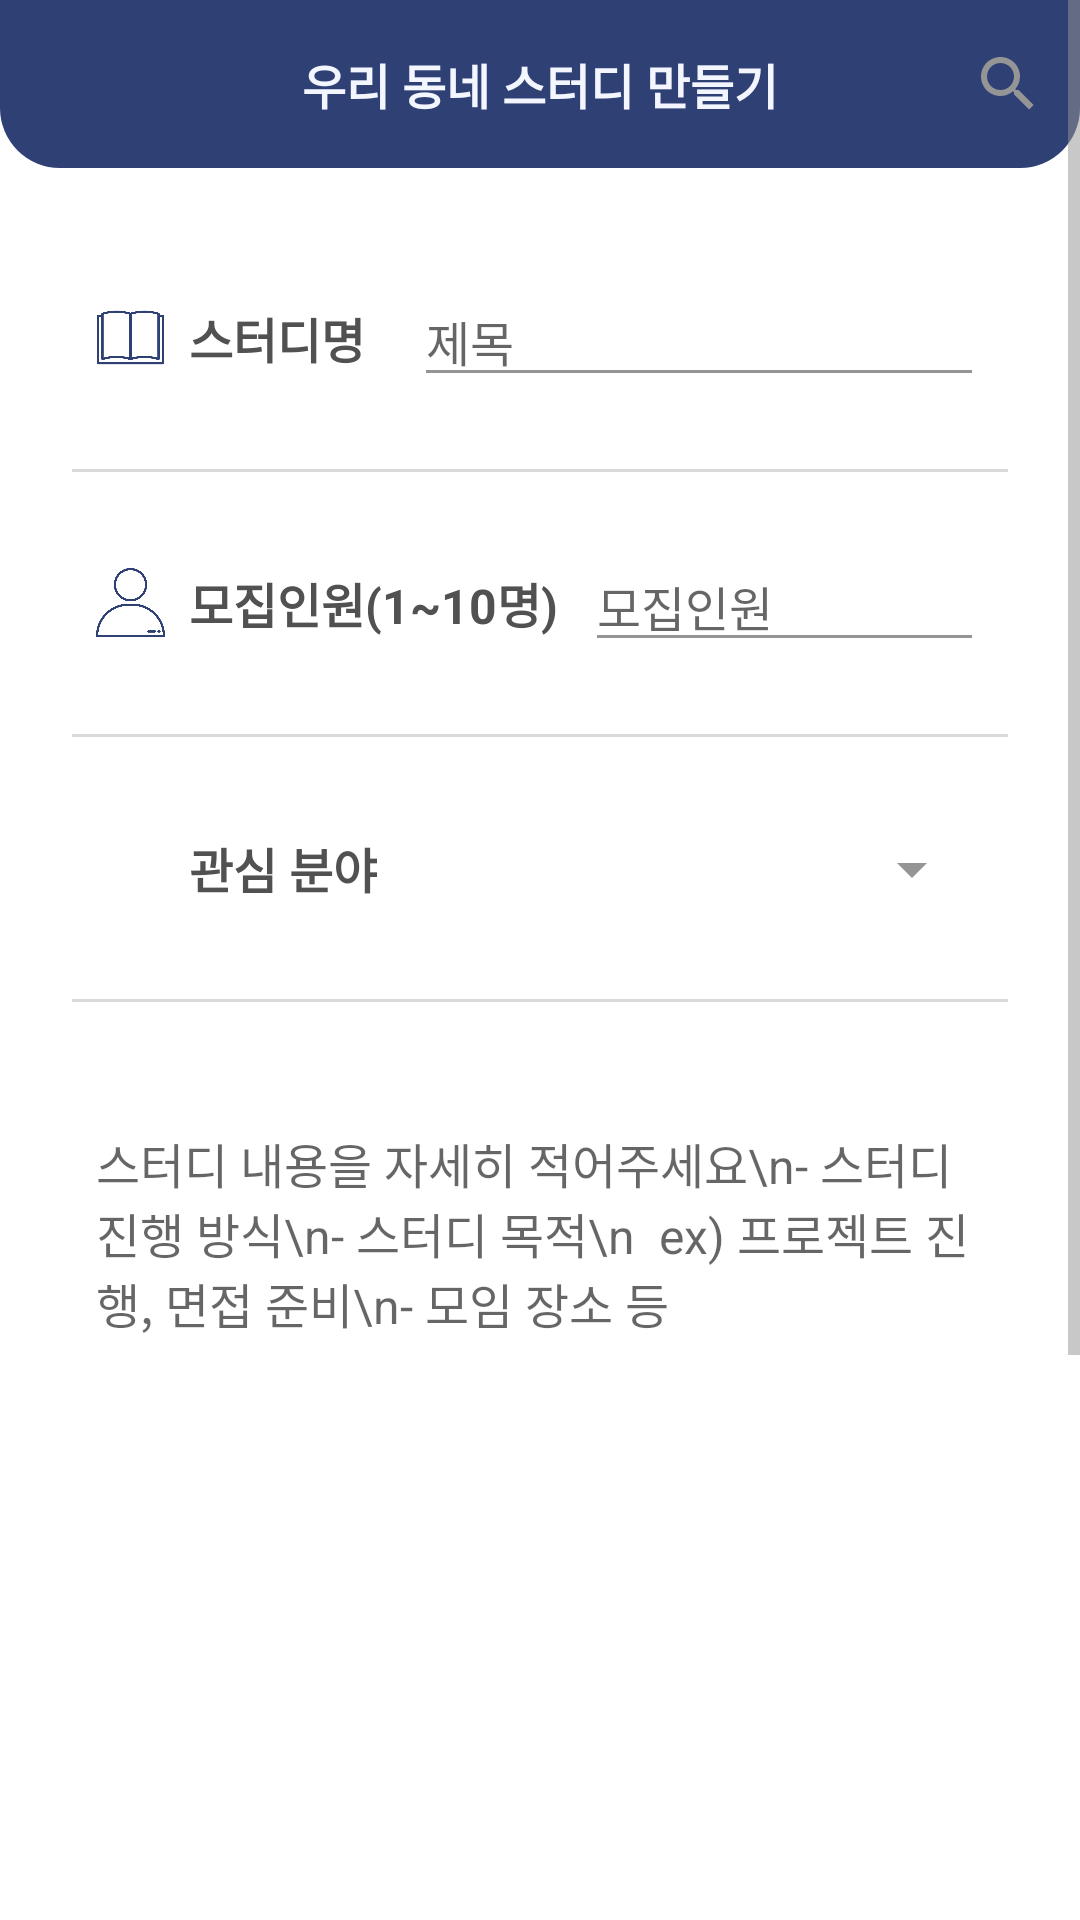

Icons on this 1080x1920 Android screen, each with the point to tap as point (x, y):
person: point (130, 602)
study: point (130, 337)
